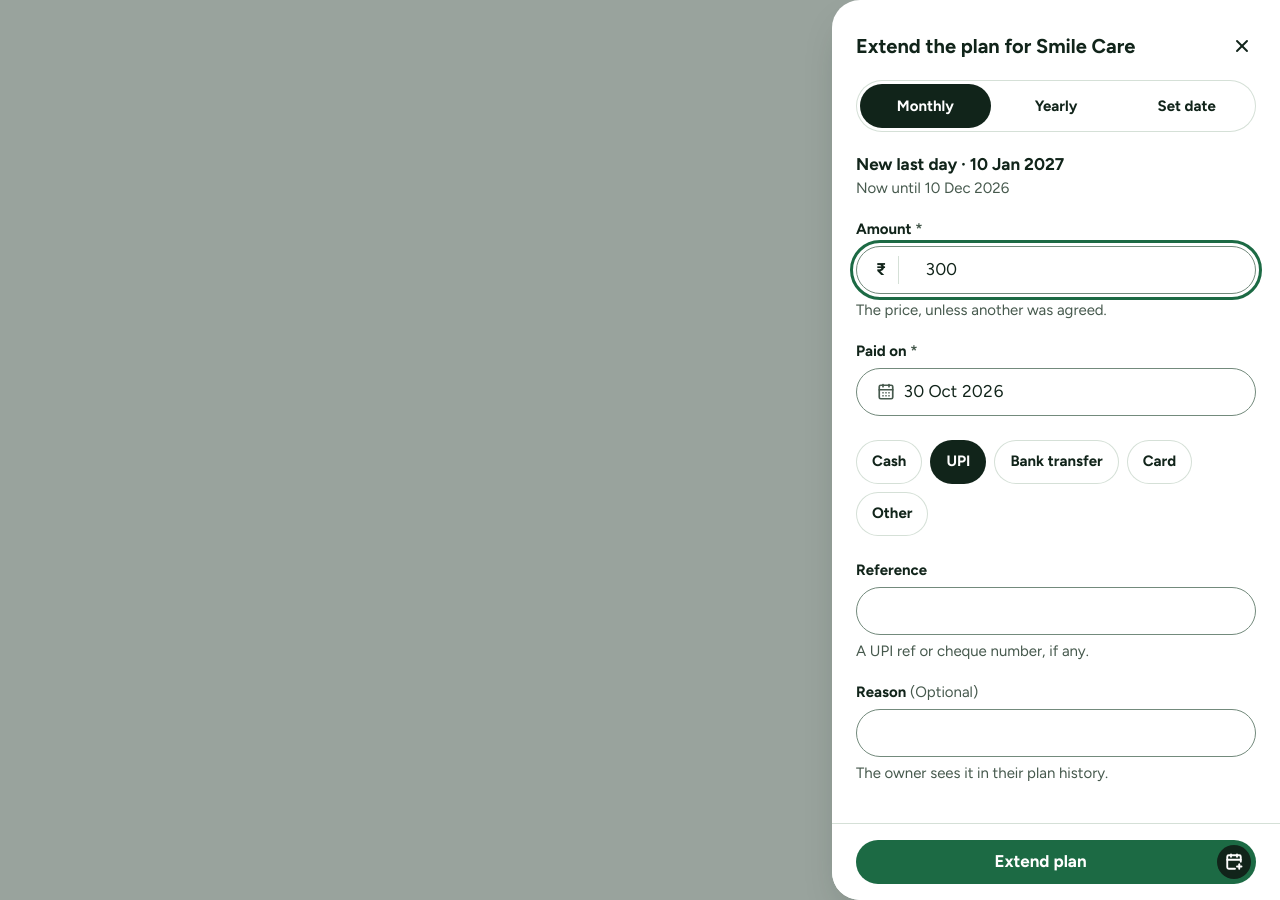
Test: ExtendPlanSheet (plan §7.4; D373, D374) › holds a month to money received
The image size is (1280, 900).
Step 1. Clear the field labelled "Amount *" → (1056, 270), box [856,246,1256,294]
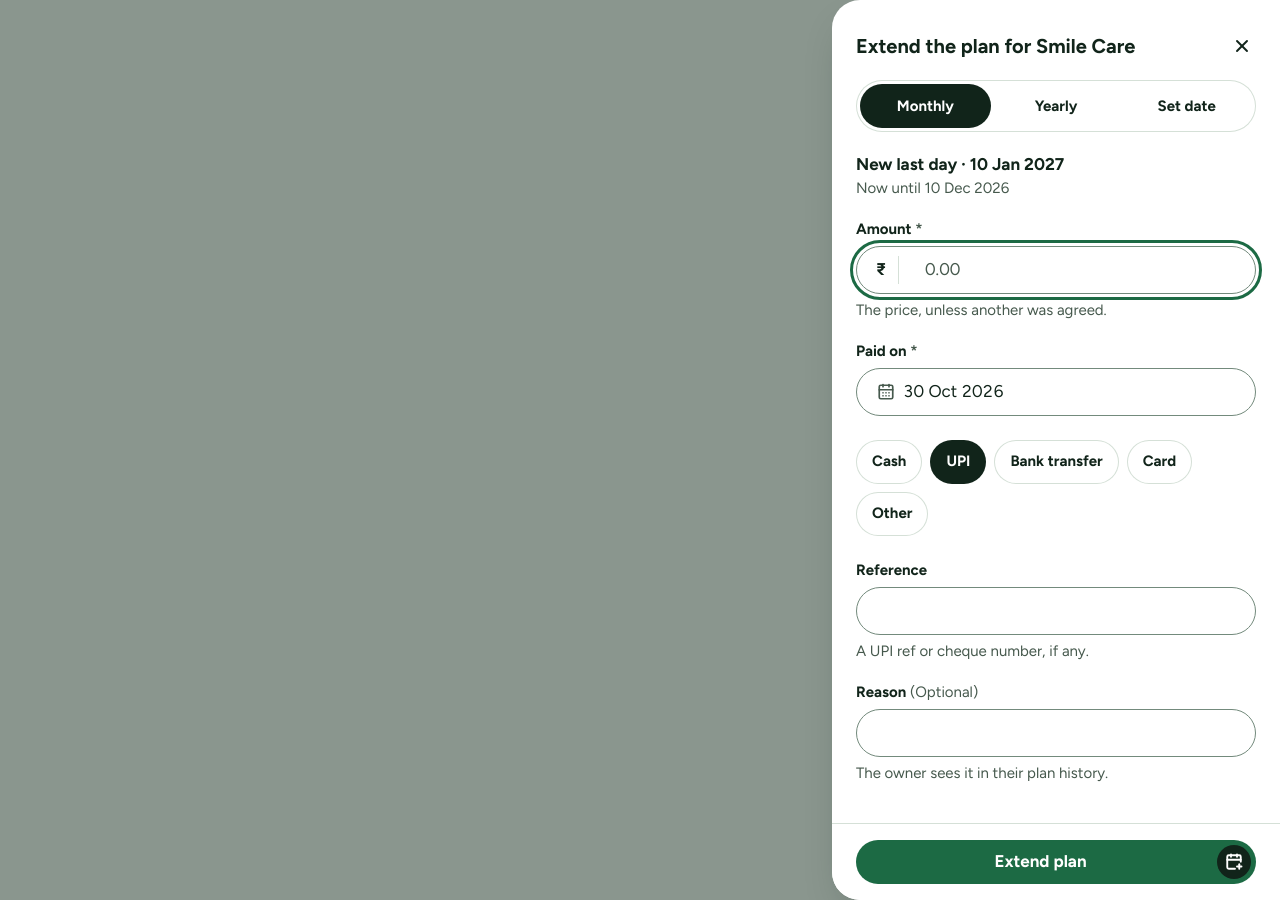
Step 2. Click the button "Extend plan" → (1056, 862), box [856,840,1256,884]
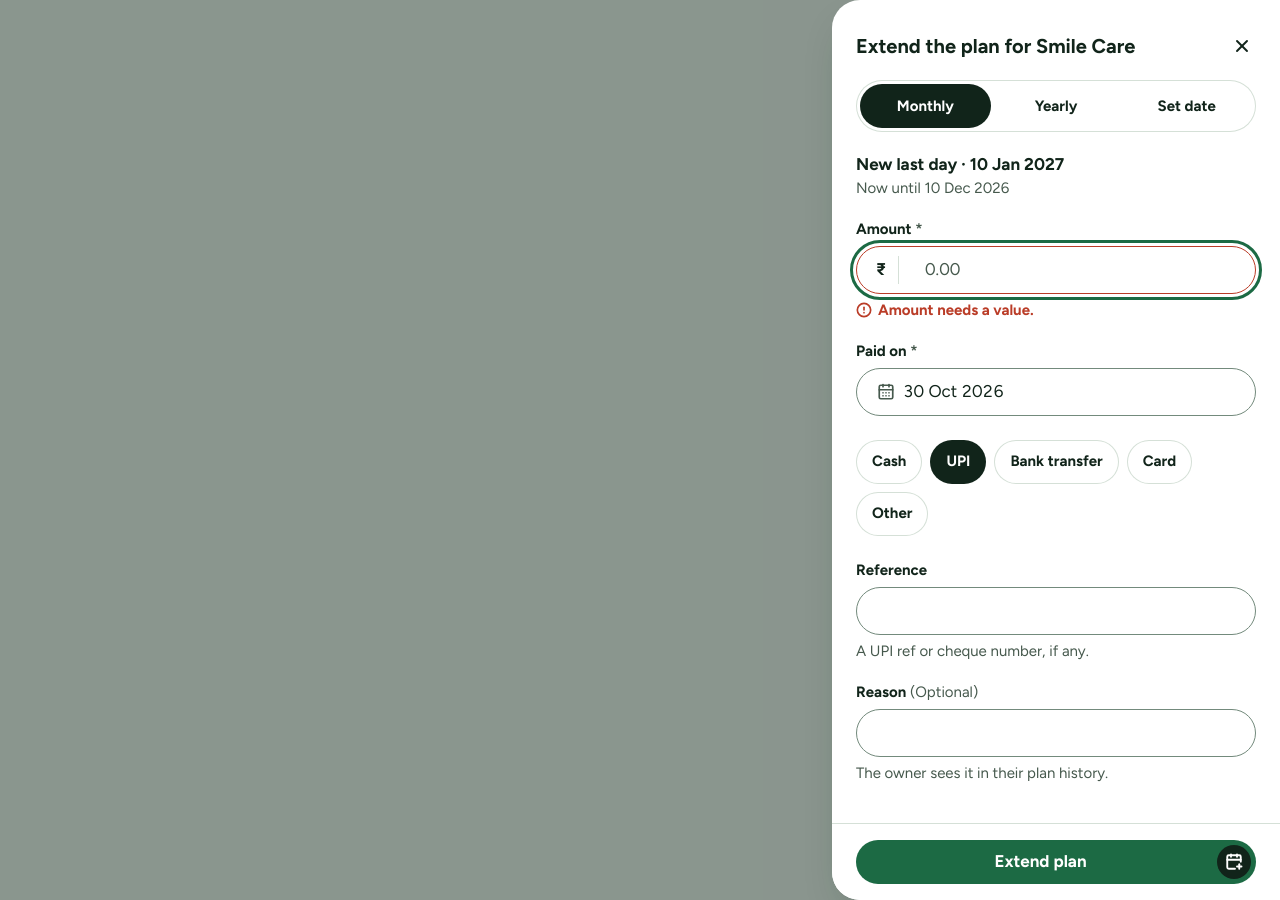
expect the text "Amount needs a value." is shown: met, box [856,300,1034,318]
